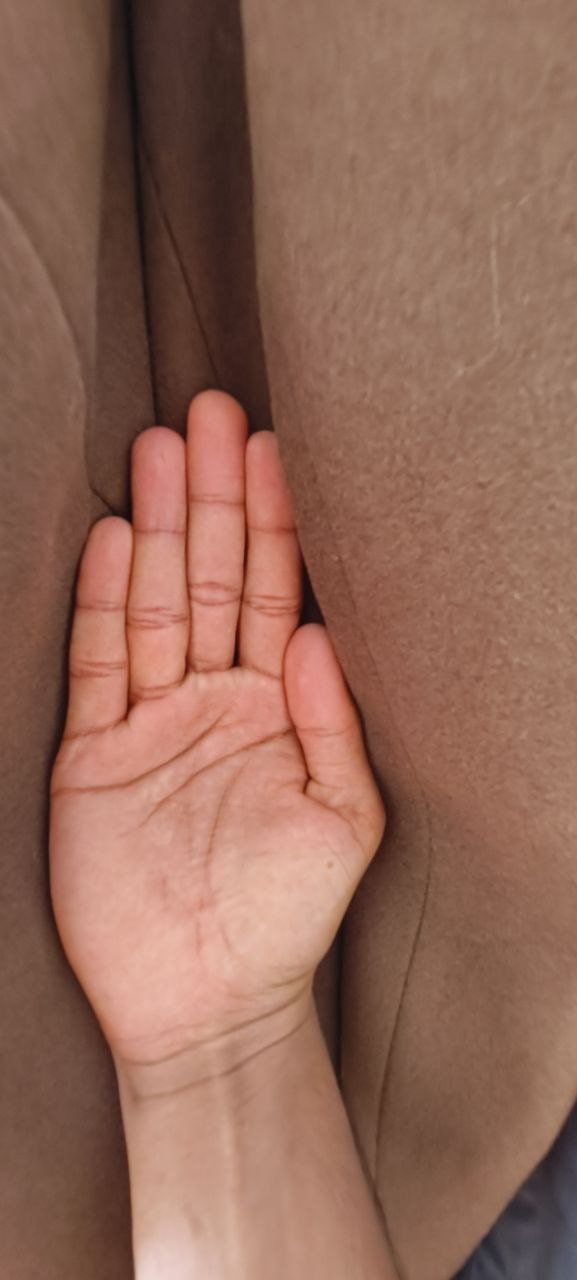Palm: (17, 301, 475, 1099)
